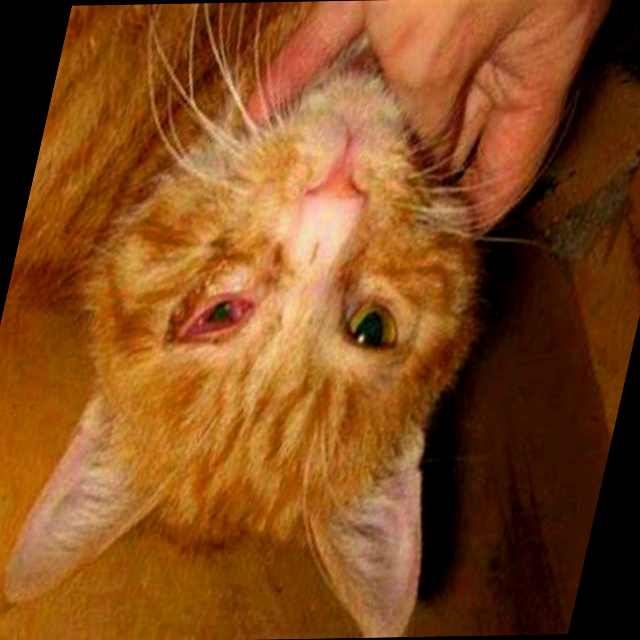eye_infection: (174, 288, 258, 346), (330, 297, 404, 354)
